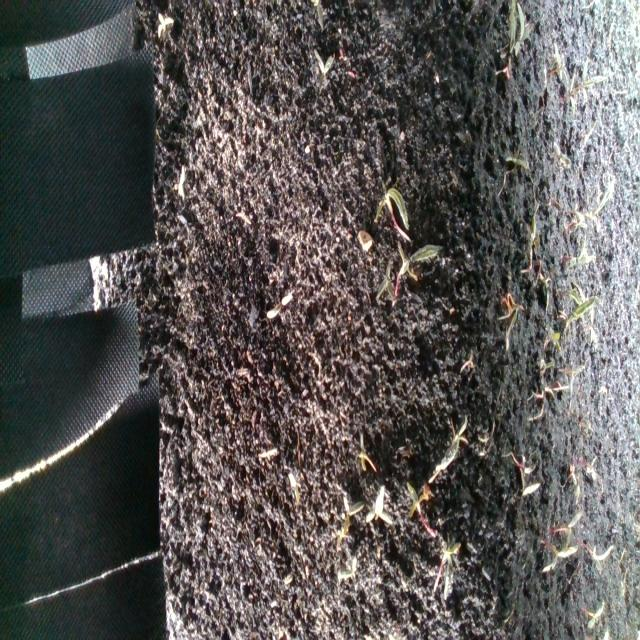weed: (537, 515, 577, 575), (269, 286, 295, 332), (353, 433, 380, 475)
